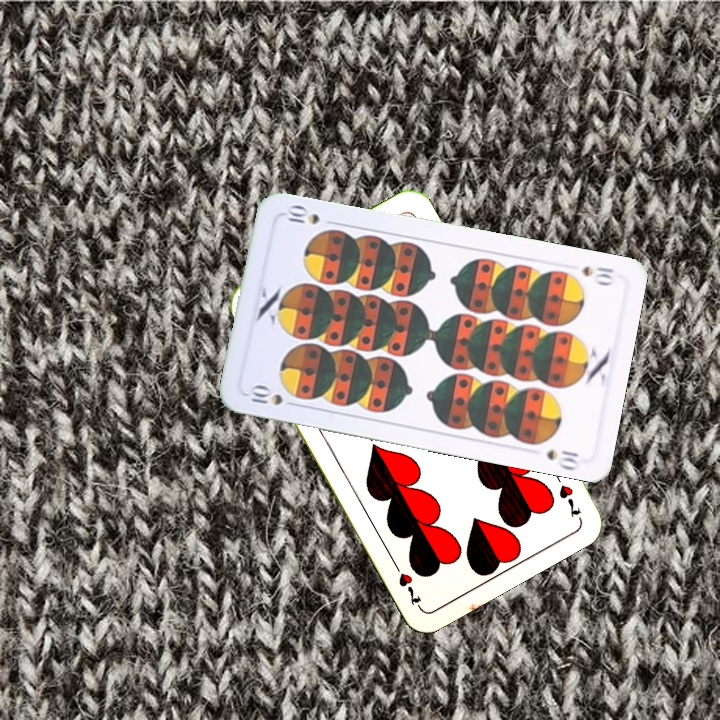H7: (548, 466, 583, 520)
S10: (245, 381, 301, 410), (577, 262, 616, 288)
